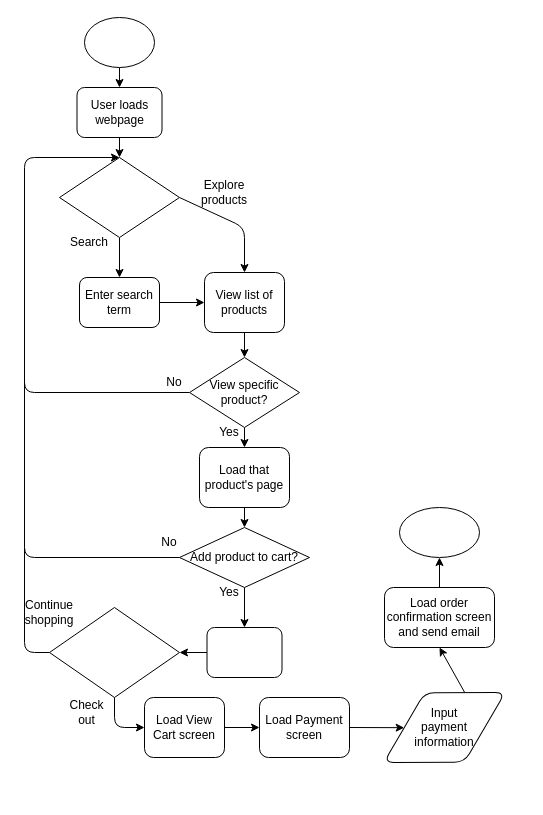
Image size: 543x815. Some labels were removed from this diagram. Here are the shapes that lost their labels. From the top down, the box of each, then its label:
(84, 16, 154, 68): Start
(58, 156, 180, 238): Do what on the webpage?
(398, 506, 480, 558): End
(48, 606, 180, 698): Continue shopping or check out?
(206, 626, 282, 678): Send cart confirmation
